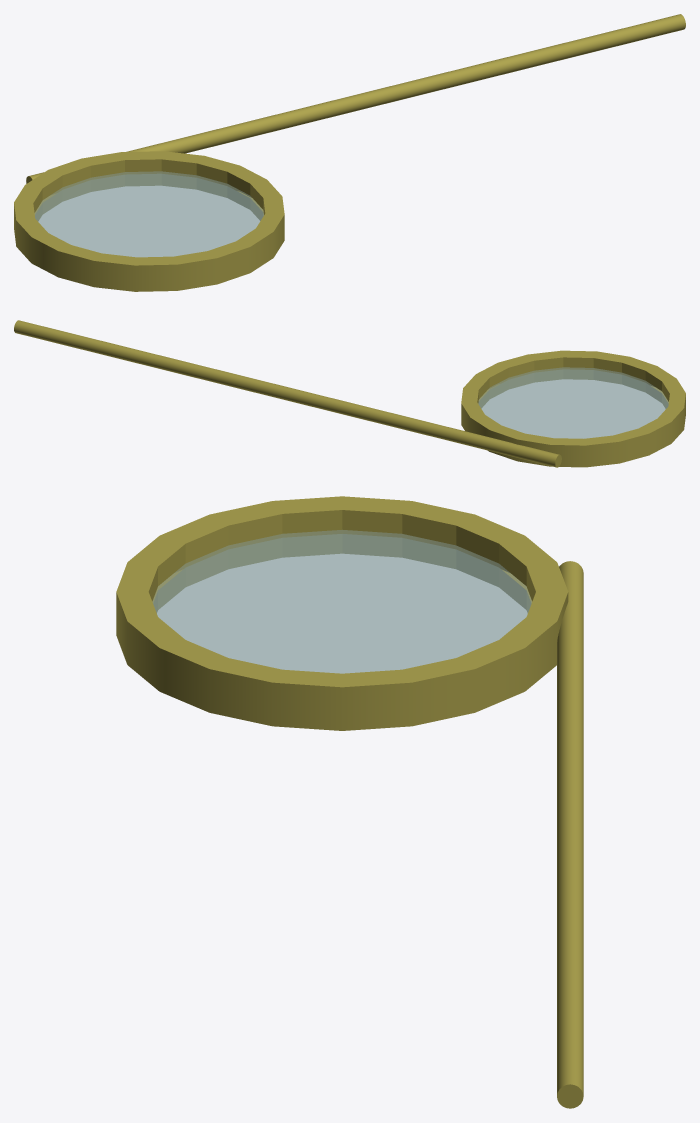
Rendered from Monocle.fbx.
3 views of the same model, one above another, from view 1: azimuth 30°, elevation 25°; view 2: azimuth 150°, elevation 25°; view 3: azimuth 270°, elevation 25° (orthographic). The views are drawn at different scales.
Visible parts, largest first — view 1: pCylinder3; view 2: pCylinder3; view 3: pCylinder3.
Part boxes in pixels (x1,y1,x2,y2): pCylinder3: (14,14,685,291); pCylinder3: (14,320,685,467); pCylinder3: (116,496,583,1108).
Bounding box in the file's own units: 0.0671 × 0.00235 × 0.0227.
